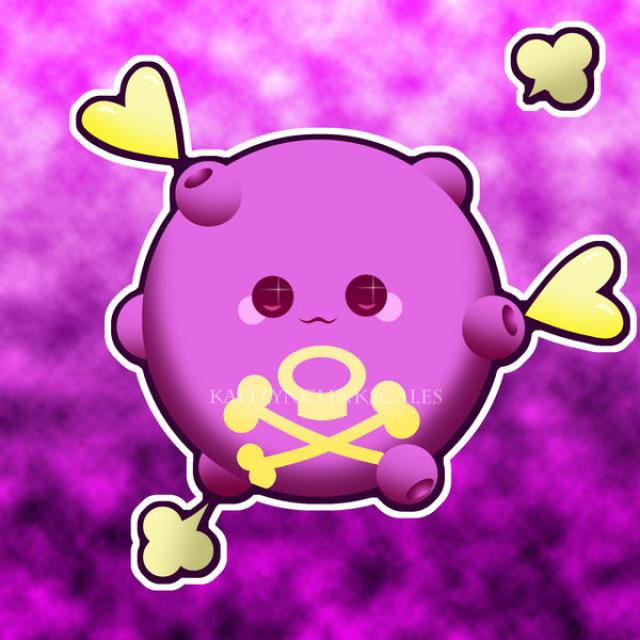Koffing: (111, 136, 526, 527)
